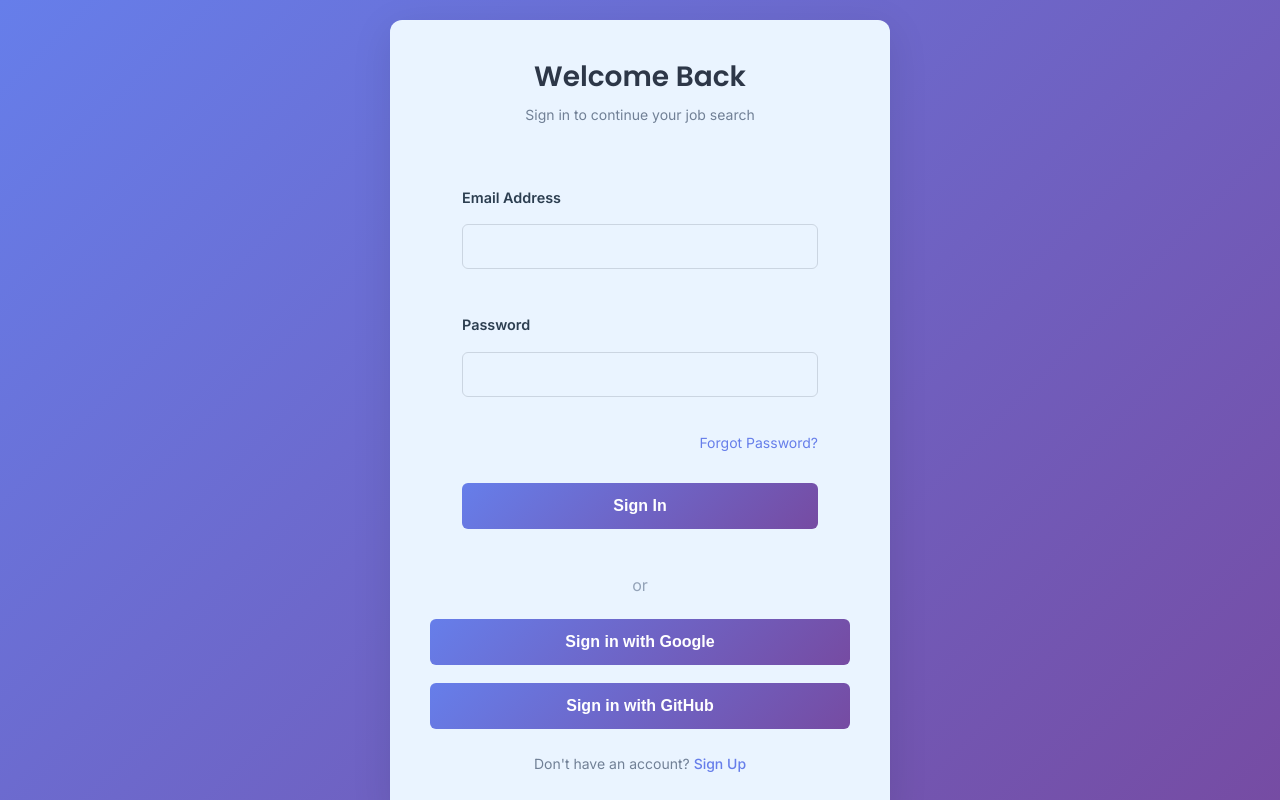
it: Login › shows friendly error message from Firebase auth codes
The width and height of the screenshot is (1280, 800).
Type "user@example.com" into the field labelled "Email Address" at [640, 247], box left=462, top=224, right=818, bottom=269
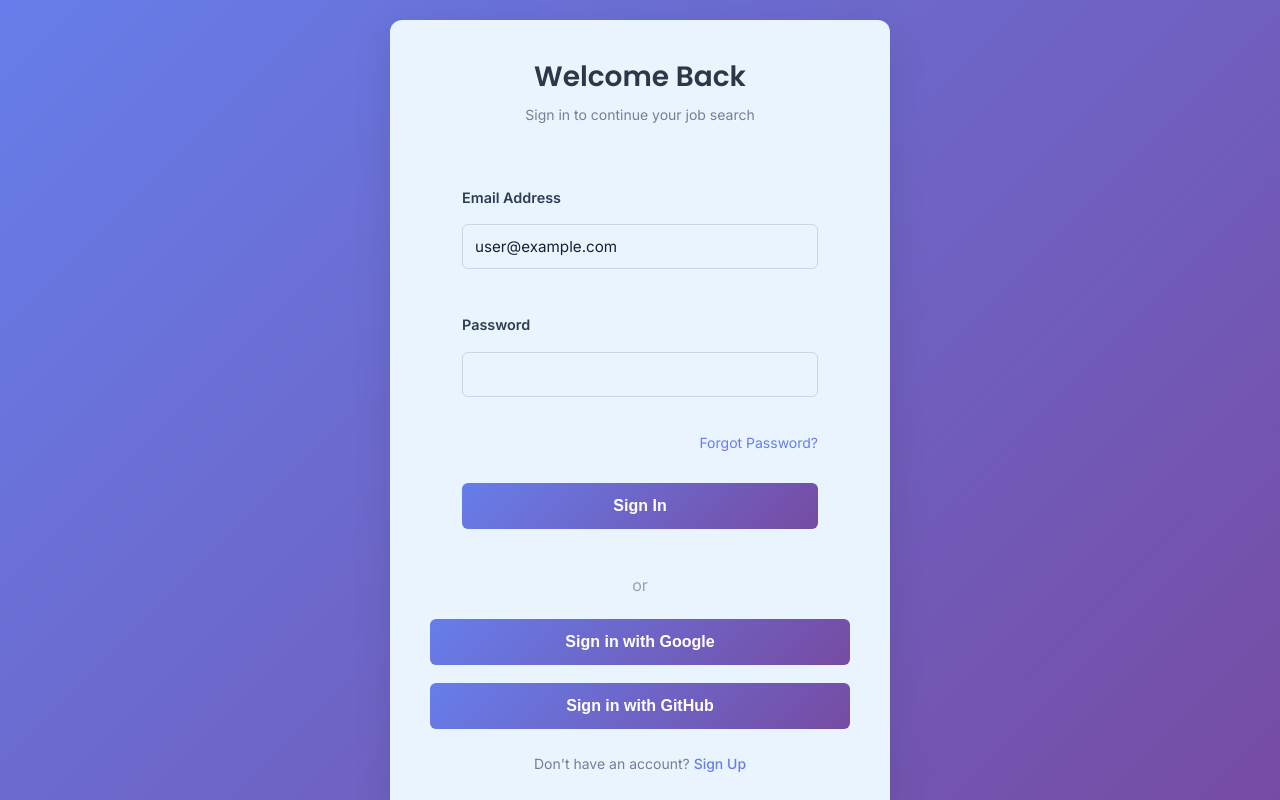
Type "Secret123!" into the password field labelled "Password" at [640, 374], box left=462, top=352, right=818, bottom=397
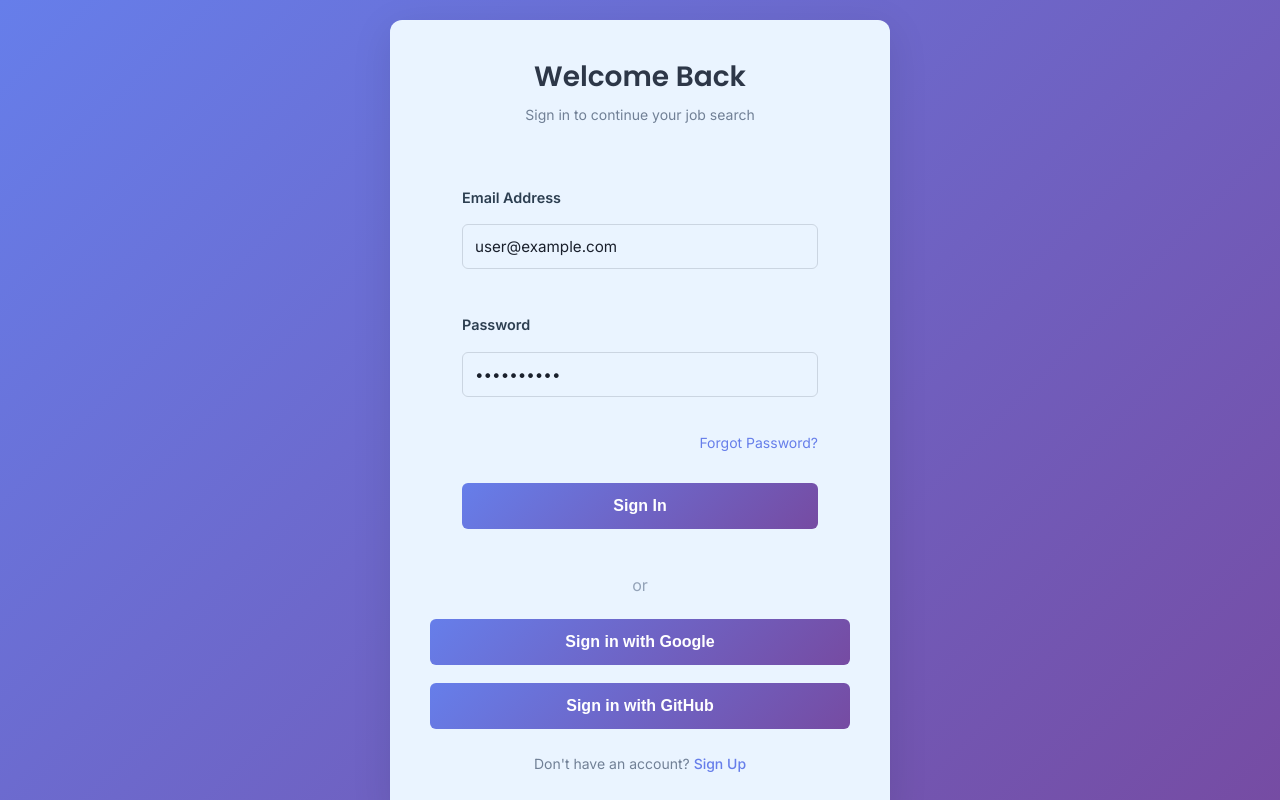
Click the button "Sign In" at [640, 506], box left=462, top=483, right=818, bottom=529
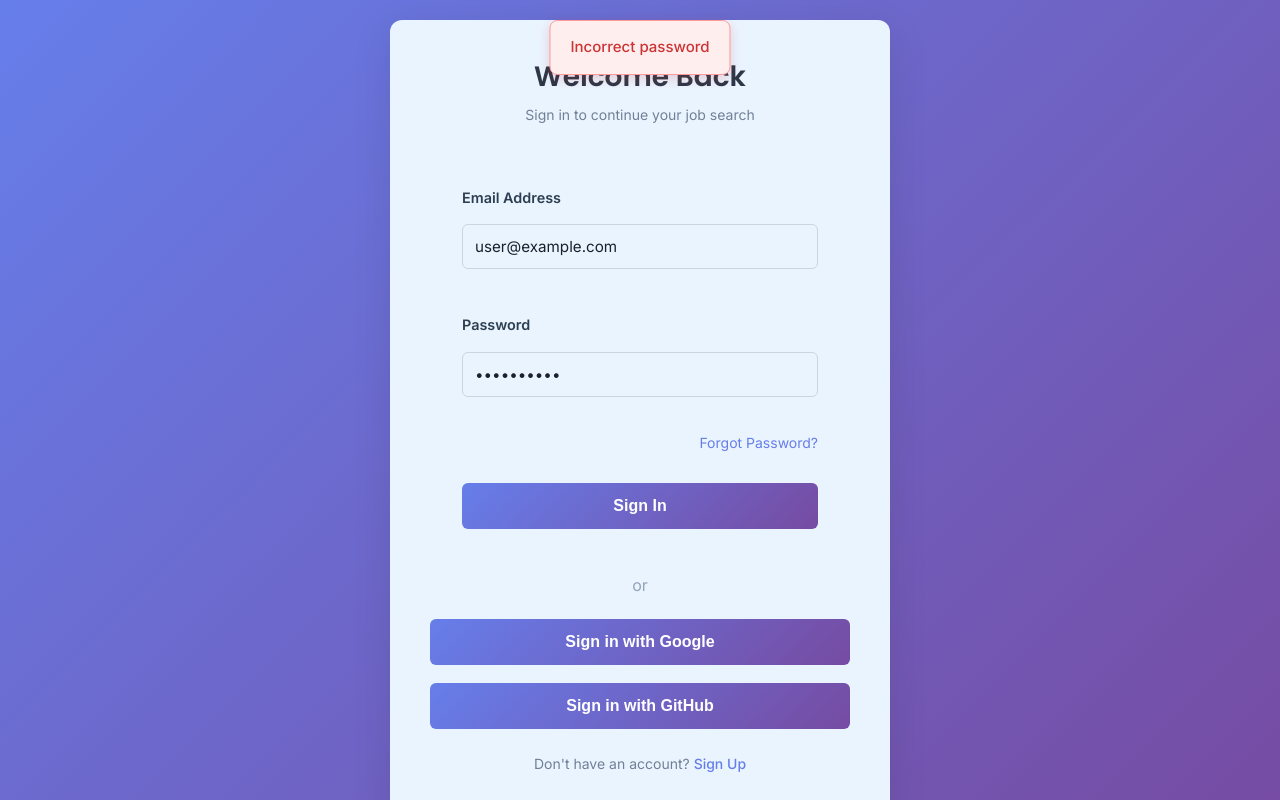
Result: the text "Incorrect password" is shown at left=550, top=20, right=730, bottom=74
